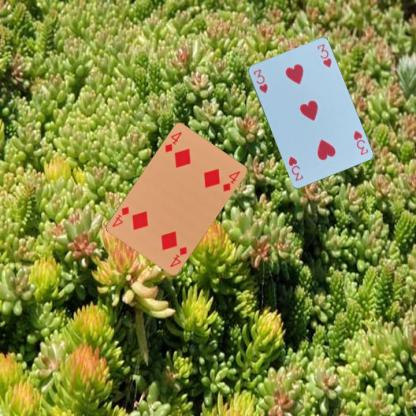3h: (351, 128, 369, 156), (250, 67, 268, 94)
4d: (162, 129, 184, 154), (167, 244, 188, 269)
